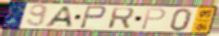0: (169, 8, 194, 33)
9: (26, 3, 49, 29)
A: (43, 6, 75, 29)
P: (78, 5, 108, 30), (139, 8, 168, 31)
R: (107, 7, 136, 30)
